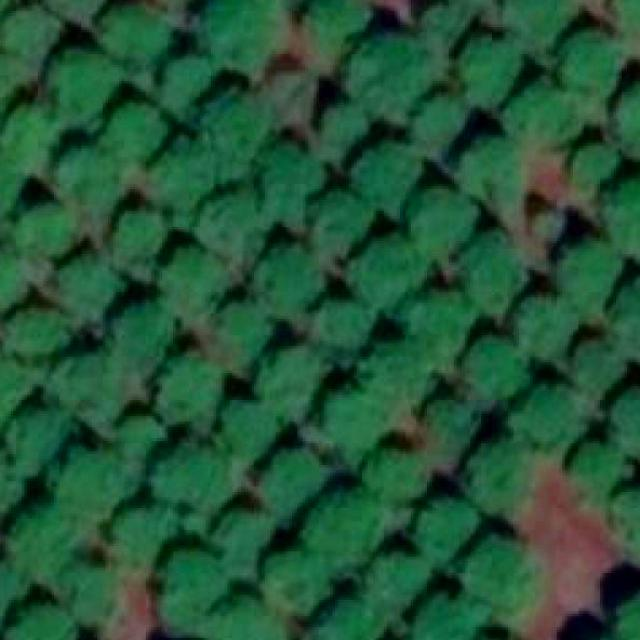Tree: (306, 492, 385, 567), (49, 49, 122, 124), (354, 40, 427, 114), (157, 444, 236, 512), (51, 454, 135, 517), (259, 449, 330, 522), (249, 252, 324, 320), (403, 297, 474, 368), (470, 544, 541, 614), (214, 0, 279, 76), (508, 87, 587, 149), (141, 152, 216, 216), (410, 184, 476, 254), (209, 95, 268, 171), (106, 0, 171, 68), (204, 187, 272, 252), (360, 243, 428, 308), (368, 549, 432, 617), (60, 252, 122, 322), (154, 362, 222, 425), (57, 149, 122, 214), (460, 38, 522, 106), (157, 559, 214, 632), (166, 241, 230, 306), (465, 236, 524, 306), (114, 302, 176, 368), (465, 338, 524, 406), (562, 29, 625, 92), (357, 144, 419, 208), (260, 343, 324, 405), (111, 503, 169, 571), (360, 351, 428, 409), (470, 438, 528, 506), (49, 354, 122, 408), (557, 243, 619, 306), (103, 103, 171, 160), (11, 517, 79, 574), (268, 151, 322, 222), (62, 567, 128, 625), (13, 205, 76, 265), (209, 514, 268, 578), (419, 400, 477, 465), (313, 195, 373, 257), (514, 387, 576, 447), (267, 555, 330, 614), (5, 108, 60, 173), (211, 306, 270, 365), (459, 140, 519, 198), (422, 497, 481, 555), (517, 303, 574, 362), (3, 11, 61, 68), (362, 451, 425, 503), (219, 398, 279, 452), (162, 54, 220, 108), (329, 398, 382, 457), (313, 0, 367, 57), (213, 598, 286, 640), (570, 441, 622, 498), (416, 95, 465, 155), (14, 411, 68, 465), (568, 344, 622, 398), (111, 211, 166, 263), (508, 0, 570, 46), (316, 303, 368, 357), (605, 176, 640, 255), (0, 348, 32, 432), (322, 102, 369, 156), (319, 597, 378, 640), (5, 310, 65, 352), (566, 146, 620, 192), (9, 605, 79, 640), (422, 600, 481, 640), (422, 3, 468, 52), (613, 490, 640, 565), (613, 83, 640, 157), (607, 394, 640, 454), (611, 284, 640, 352), (0, 560, 27, 630), (122, 414, 160, 461), (0, 252, 25, 322), (0, 460, 27, 522), (528, 211, 563, 243), (0, 158, 18, 216), (54, 0, 114, 16), (0, 63, 14, 122), (245, 0, 319, 11), (616, 0, 640, 32), (624, 594, 640, 640), (454, 0, 519, 9), (459, 634, 535, 640)
